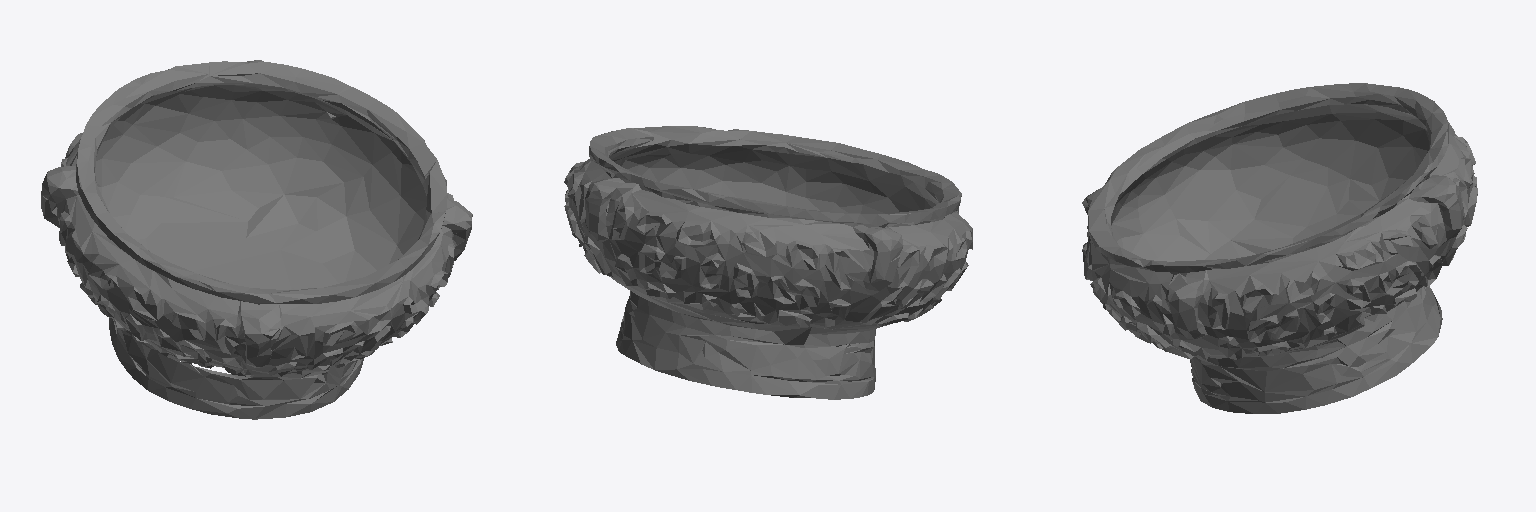
3 views of the same model, side by side, from view 1: azimuth 30°, elevation 25°; view 2: azimuth 150°, elevation 25°; view 3: azimuth 270°, elevation 25° (orthographic).
Parts seen in each view (by area): view 1: Polygonal_Model_1 Triangles_1; view 2: Polygonal_Model_1 Triangles_1; view 3: Polygonal_Model_1 Triangles_1.
Part boxes in pixels (x1,y1,x2,y2): Polygonal_Model_1 Triangles_1: (41, 60, 472, 419); Polygonal_Model_1 Triangles_1: (564, 126, 972, 399); Polygonal_Model_1 Triangles_1: (1082, 83, 1477, 413).
Bounding box in the file's own units: 1.7 × 1.17 × 1.64.